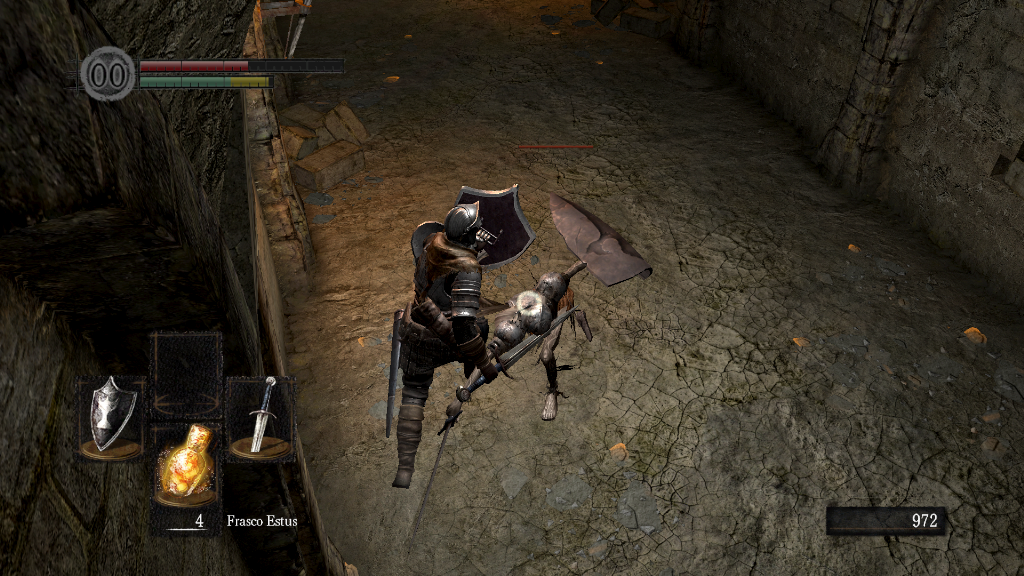health: (138, 58, 343, 71)
humanity: (80, 45, 136, 102)
player: (378, 183, 535, 490)
souls: (825, 506, 945, 536)
stamina: (138, 74, 274, 88)
undeadSoldier: (445, 259, 588, 423)
